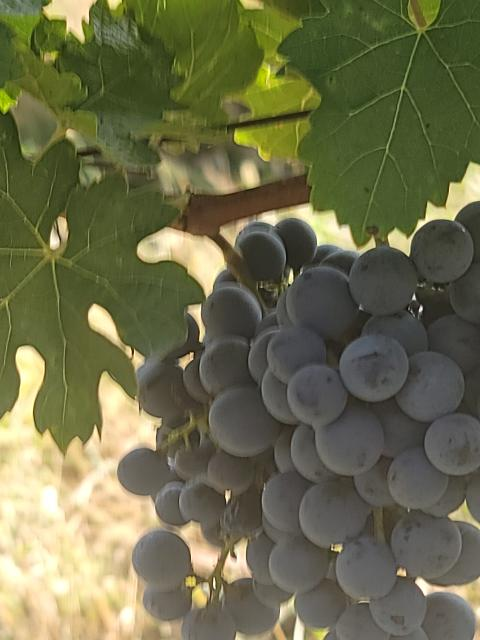grapes: (249, 204, 480, 640), (118, 219, 316, 640)
